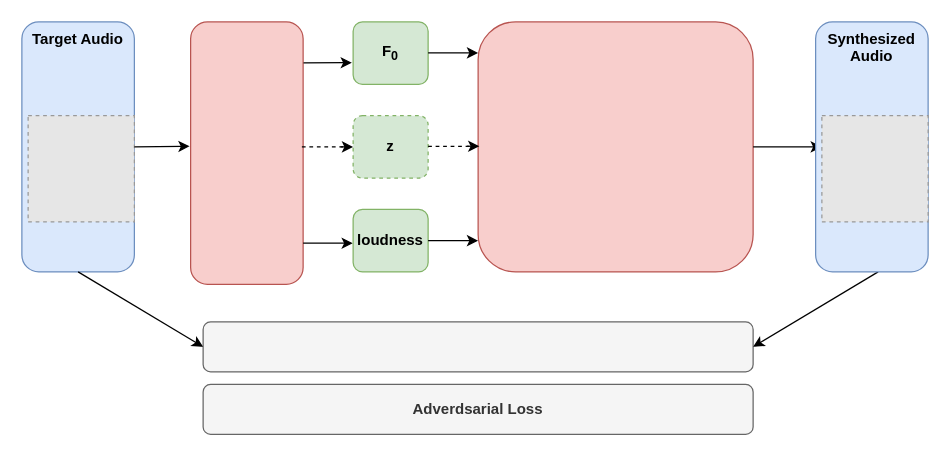
The diagram is 950 pixels wide and 456 high, and some of its shapes have lost their labels. Grey dashed boxes stand in for pictures. The shapes that lost their labels are listed below. From the top down, each one's centre as x and y in pixels, then its label:
(x=246, y=152): Encoder
(x=615, y=146): Decoder
(x=477, y=346): Multiscale Spectrogram Loss
